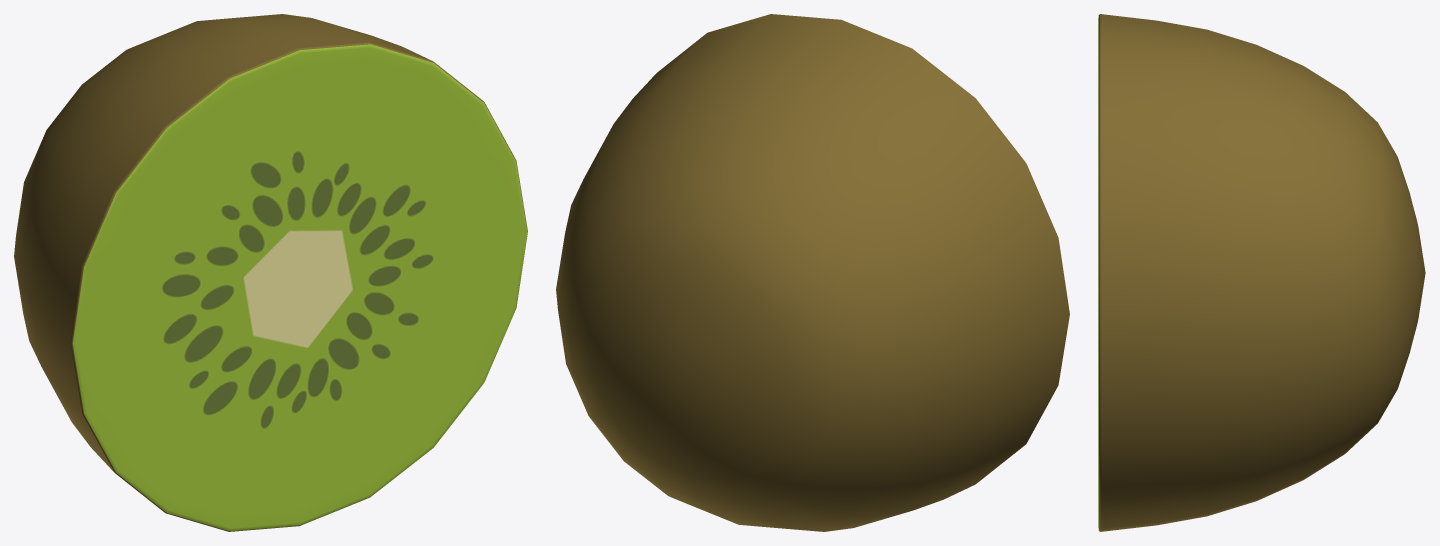
Rendered from KiwiAbierto.fbx.
3 renders of one model, left to right at view 1: azimuth 30°, elevation 25°; view 2: azimuth 150°, elevation 25°; view 3: azimuth 270°, elevation 25°, orthographic.
Parts seen in each view (by area): view 1: pSphere3; view 2: pSphere3; view 3: pSphere3.
Boxes of the visible parts, x1,y1,x2,y2 form: pSphere3: (14,14,527,531); pSphere3: (556,14,1069,531); pSphere3: (1098,14,1425,531).
Bounding box in the file's own units: 1.9 × 1.9 × 1.19.
